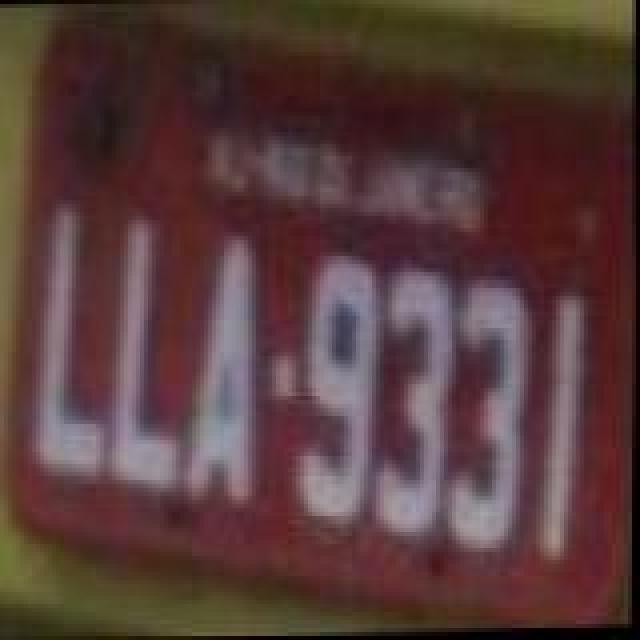1: (534, 292, 594, 568)
3: (440, 284, 540, 560), (368, 272, 460, 548)
9: (294, 254, 390, 530)
A: (180, 240, 260, 512)
L: (24, 206, 112, 490), (106, 220, 190, 500)
